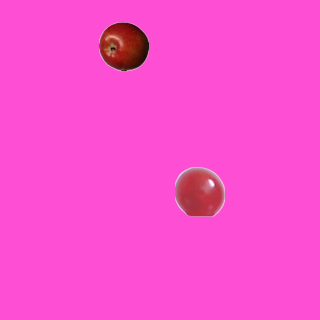Apple Braeburn: (98, 21, 148, 71)
Redcurrant: (174, 166, 224, 216)
